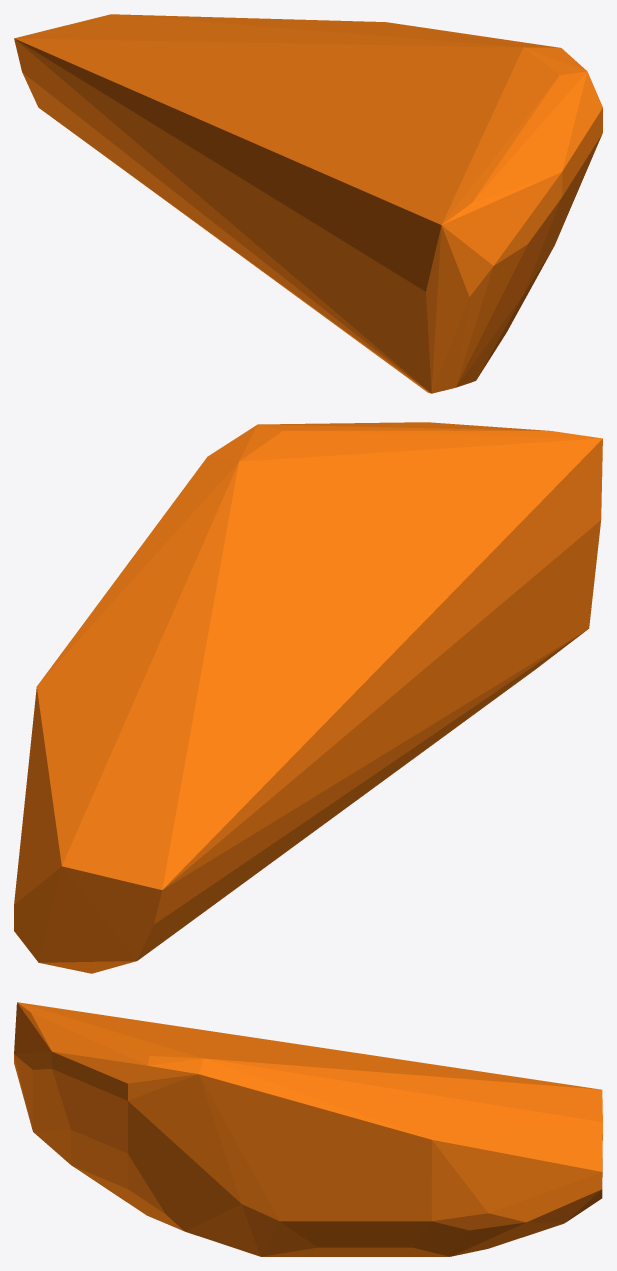
Rendered from mouth_cup001.obj.
The picture shows the model from 3 angles, top to bottom: view 1: azimuth 30°, elevation 25°; view 2: azimuth 150°, elevation 25°; view 3: azimuth 270°, elevation 25°; orthographic projection. The views are drawn at different scales.
Visible parts, largest first — view 1: mouth_cup001_mouth_cup001.001; view 2: mouth_cup001_mouth_cup001.001; view 3: mouth_cup001_mouth_cup001.001.
Part boxes in pixels (x1,y1,x2,y2): mouth_cup001_mouth_cup001.001: [14, 14, 602, 393]; mouth_cup001_mouth_cup001.001: [14, 422, 602, 973]; mouth_cup001_mouth_cup001.001: [14, 1002, 602, 1256].
Size of the model in its own units: 0.1019 by 0.1141 by 0.293.
